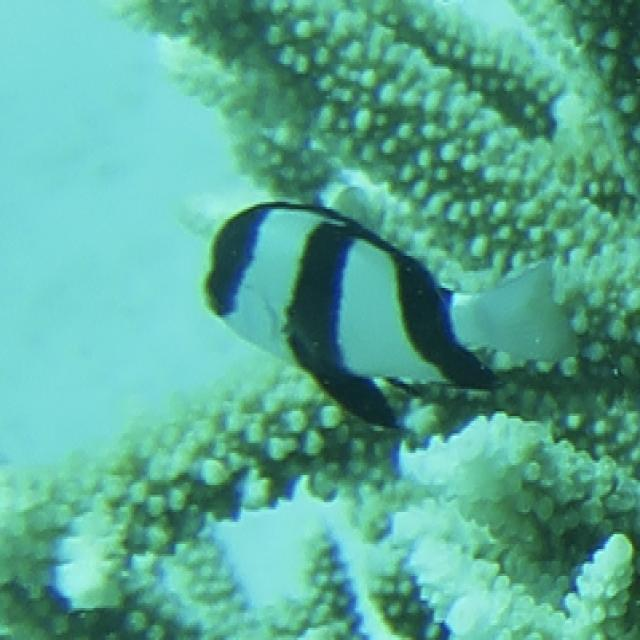ThreeStripedDamselfish: (203, 202, 573, 428)
